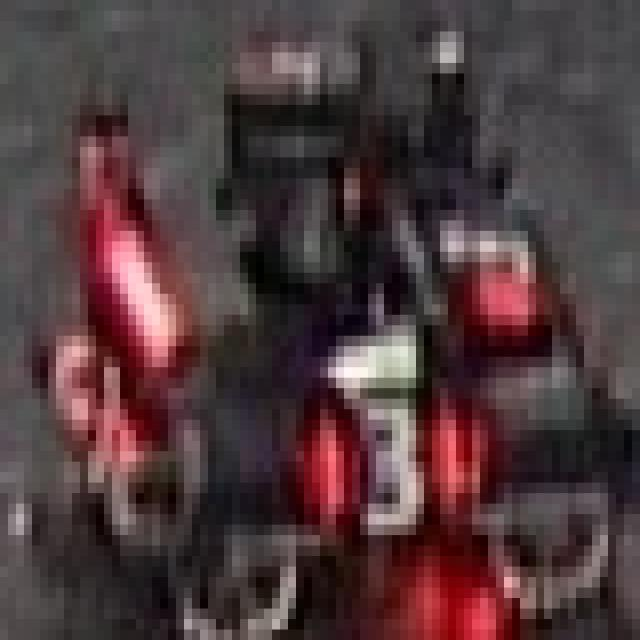R3: (304, 388, 464, 535)
